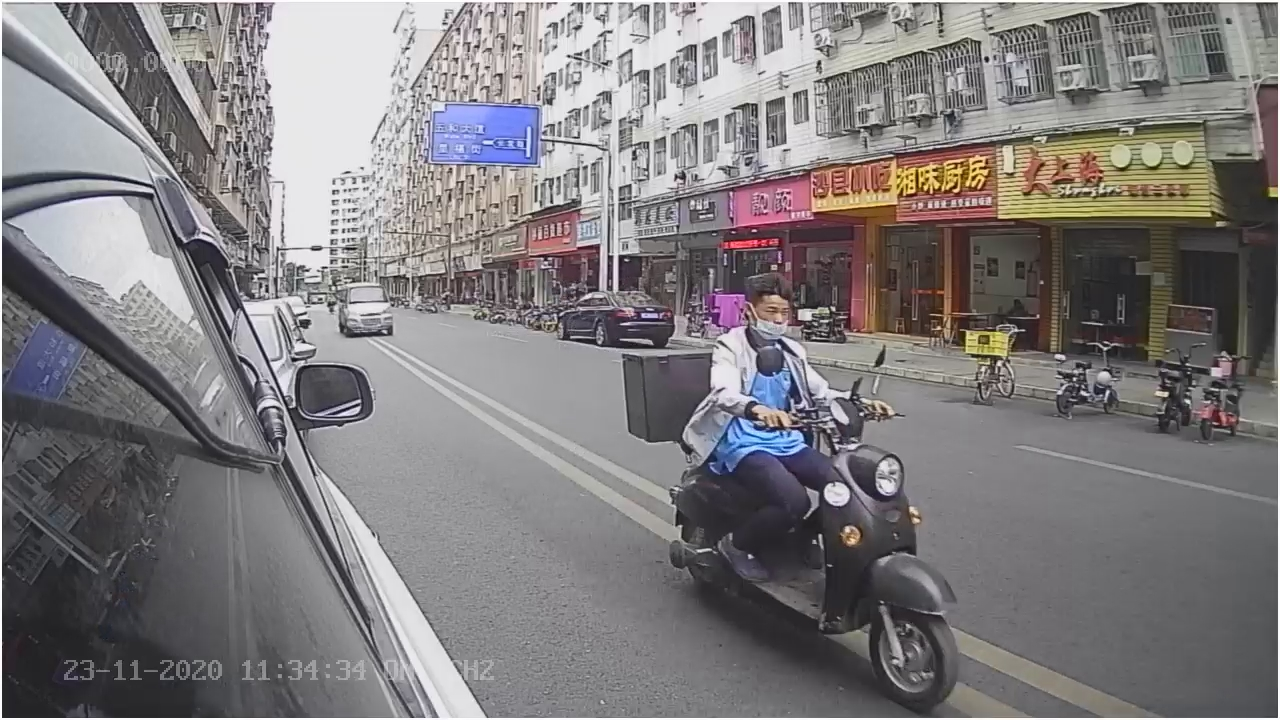person: (709, 272, 837, 427)
